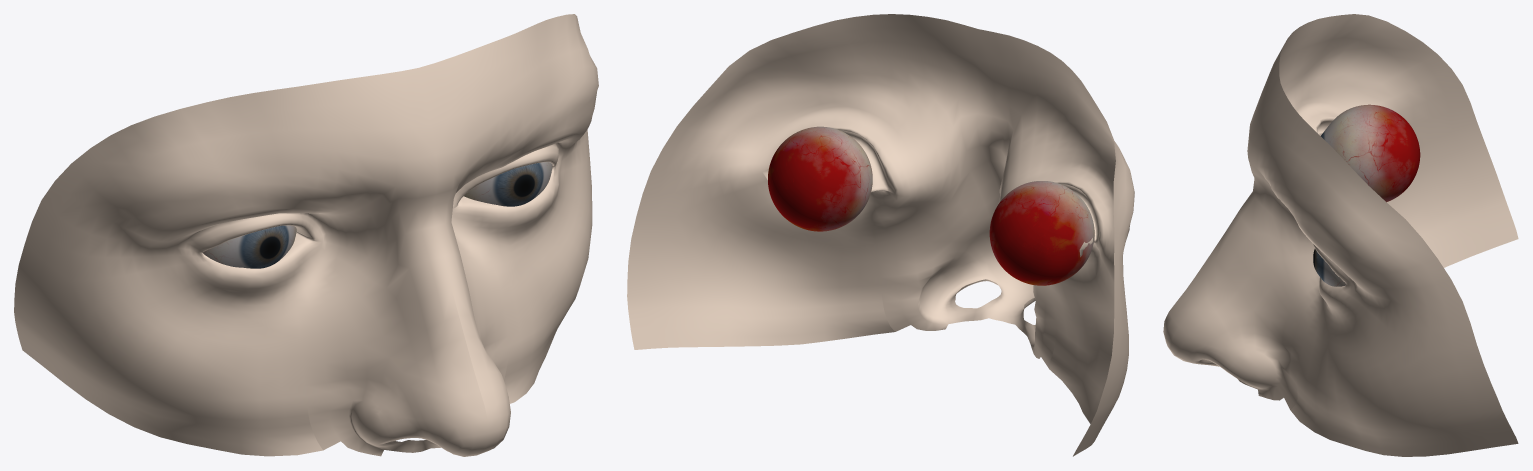
Rendered from eye_all_blend.fbx.
3 renders of one model, left to right at view 1: azimuth 30°, elevation 25°; view 2: azimuth 150°, elevation 25°; view 3: azimuth 270°, elevation 25°, orthographic. The views are drawn at different scales.
Visible parts, largest first — view 1: all_face01:polySurface4, polySurface21, polySurface20; view 2: all_face01:polySurface4, polySurface20, polySurface21; view 3: all_face01:polySurface4, polySurface21, polySurface20.
Part boxes in pixels (box(x1,y1,x2,y2)): all_face01:polySurface4: box(14, 14, 598, 456); polySurface21: box(203, 225, 296, 268); polySurface20: box(464, 162, 552, 206); all_face01:polySurface4: box(627, 14, 1134, 456); polySurface20: box(768, 126, 872, 231); polySurface21: box(989, 181, 1094, 285); all_face01:polySurface4: box(1163, 14, 1518, 456); polySurface21: box(1321, 104, 1420, 202); polySurface20: box(1313, 249, 1346, 286).
Bounding box in the file's own units: 54.16 × 35.13 × 36.18.
